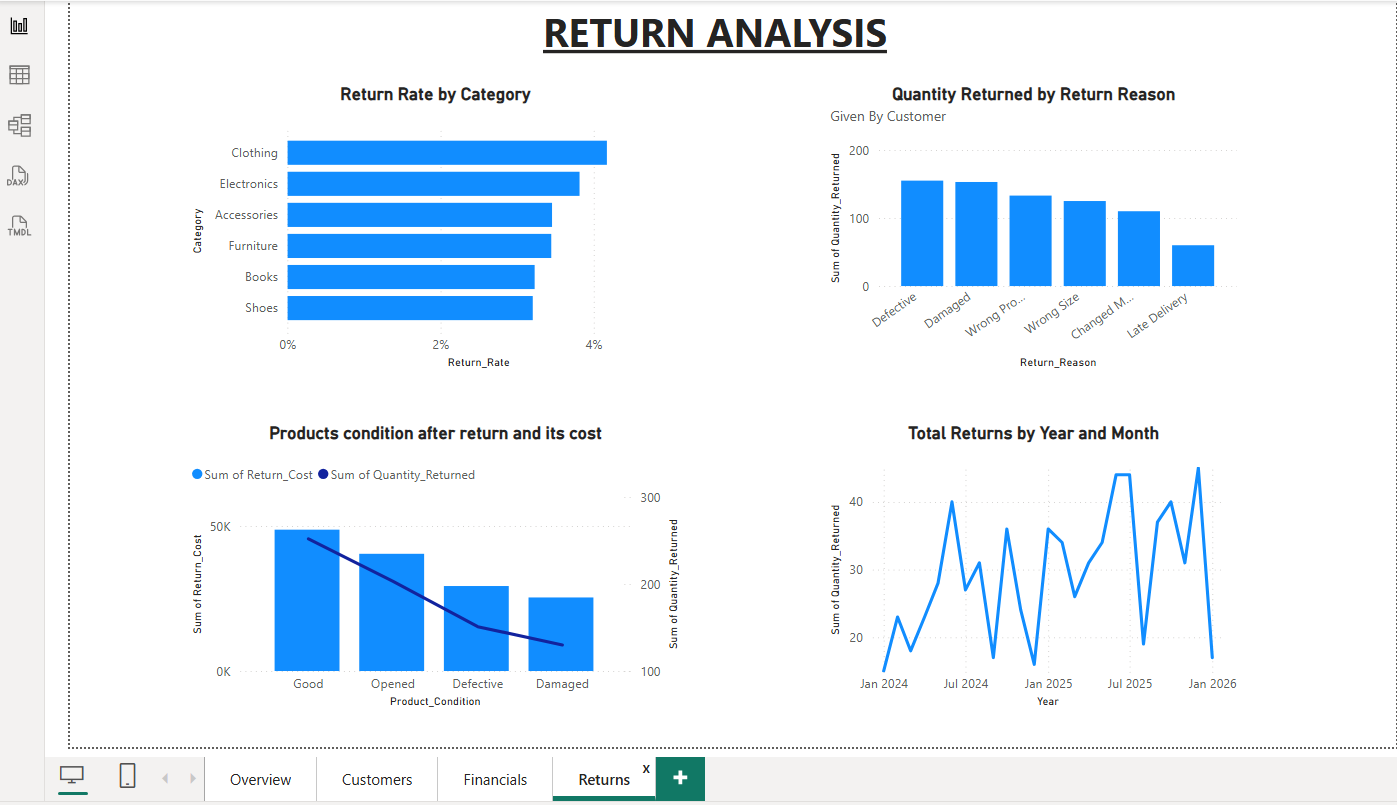

This screenshot's page, from the dashboard's own definition file:
{"tool":"powerbi","page":{"name":"Returns","canvas":[1280,720],"ordinal":3},"visuals":[{"type":"barChart","title":"Return Rate by Category","fields":{"Y":["Product_Summary.Return_Rate"],"Category":["Products.Category"]},"box":[112.2,79.6,481.4,279.9],"z":0},{"type":"columnChart","title":"Quantity Returned by Return Reason","fields":{"Category":["Returns.Return_Reason"],"Y":["Sum(Returns.Quantity_Returned)"]},"box":[728.7,79.6,403,279.9],"z":1000},{"type":"textbox","box":[371.6,0,501.9,63.9],"z":2000},{"type":"lineStackedColumnComboChart","title":"Products condition after return and its cost","fields":{"Category":["Returns.Product_Condition"],"Y":["Sum(Returns.Return_Cost)"],"Y2":["Sum(Returns.Quantity_Returned)"]},"box":[112.2,406.6,481.4,279.9],"z":3000},{"type":"lineChart","title":"Total Returns by Year and Month","fields":{"Category":["Returns.Return_Date.Variation.Date Hierarchy.Year","Returns.Return_Date.Variation.Date Hierarchy.Month"],"Y":["Sum(Returns.Quantity_Returned)"]},"box":[728.7,406.6,403,280],"z":4000}]}

Visuals, with their boxes on the page's 1280x720 design canvas (x1, y1, x2, y2). These are canvas units, not pixel positions in the 1397x805 screenshot, which may show the page scaled, cropped or inside an application window:
"Return Rate by Category" barChart: select_region(112, 80, 594, 360)
"Quantity Returned by Return Reason" columnChart: select_region(729, 80, 1132, 360)
textbox: select_region(372, 0, 874, 64)
"Products condition after return and its cost" lineStackedColumnComboChart: select_region(112, 407, 594, 686)
"Total Returns by Year and Month" lineChart: select_region(729, 407, 1132, 687)
